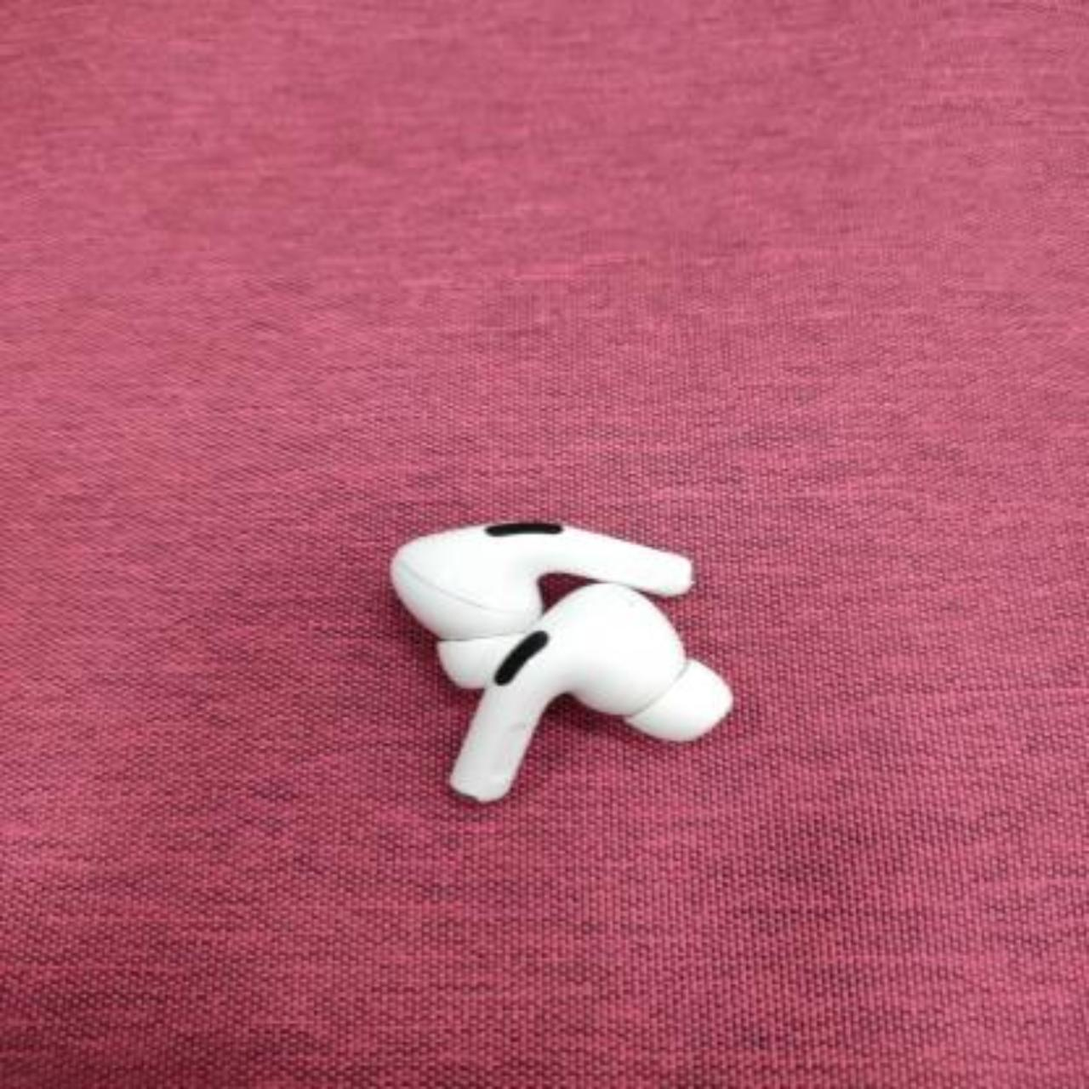Airpods_Units: (421, 569, 761, 784), (372, 490, 761, 649)
